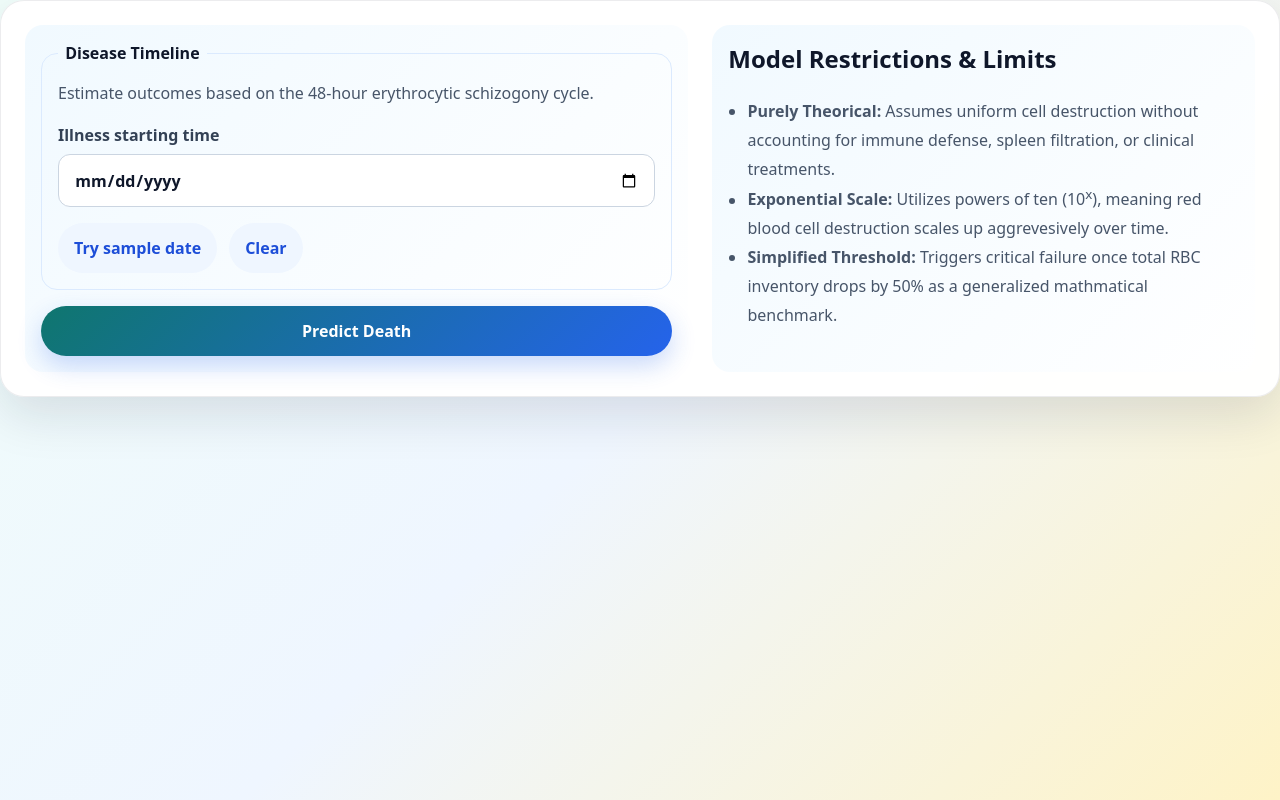
Test: Control input fields of desease UI › shows a prediction summary after submitting a date
The width and height of the screenshot is (1280, 800).
Type "2026-08-07" into the date field with test id "desease-days" at [357, 181], box [58,154,655,207]
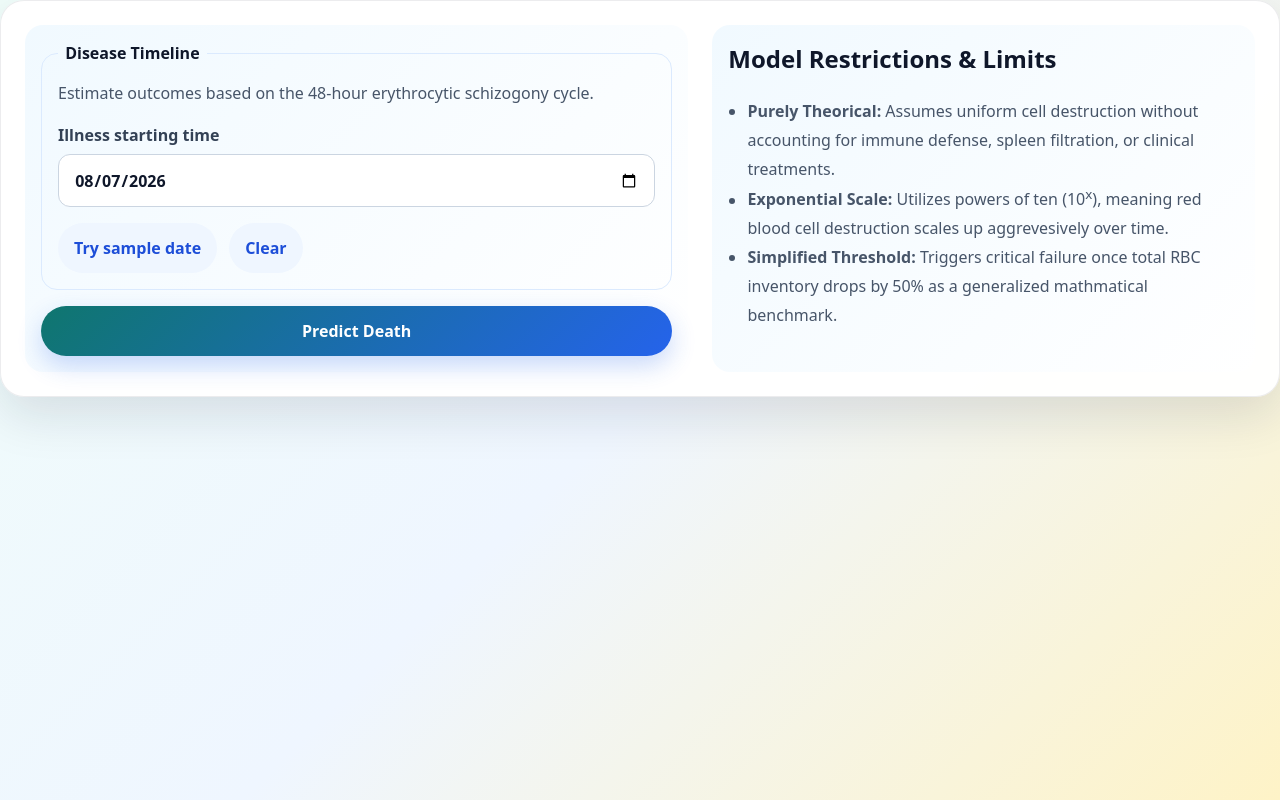
Click the button "Predict Death" at [357, 331], box [41,306,672,356]
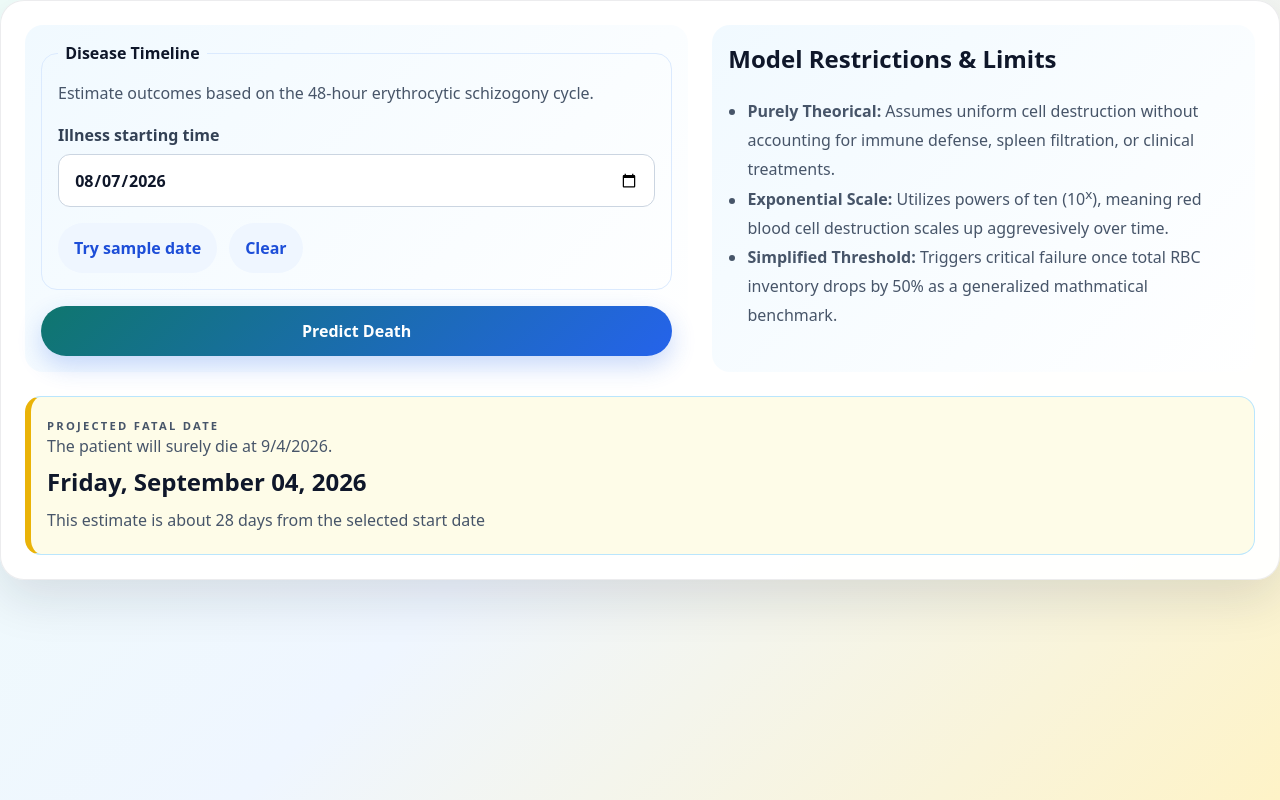
Check: the text "The patient will surely die at 9/4/2026." is shown, box [47,436,332,458]
